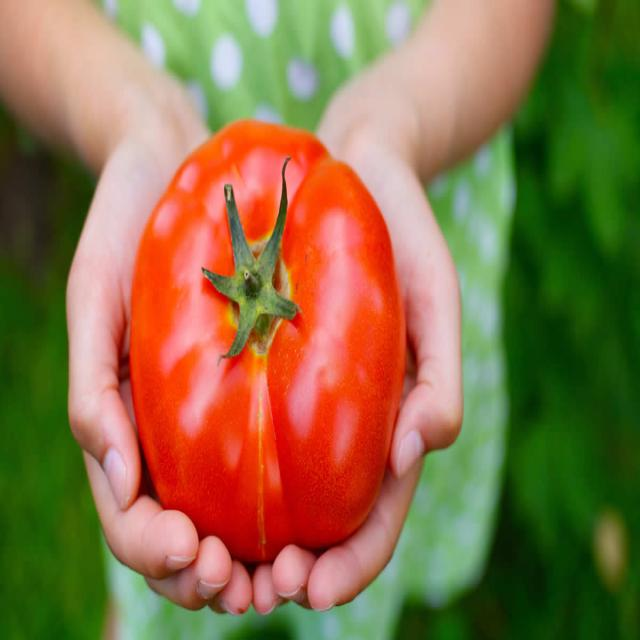kirmizi: (132, 110, 412, 584)
